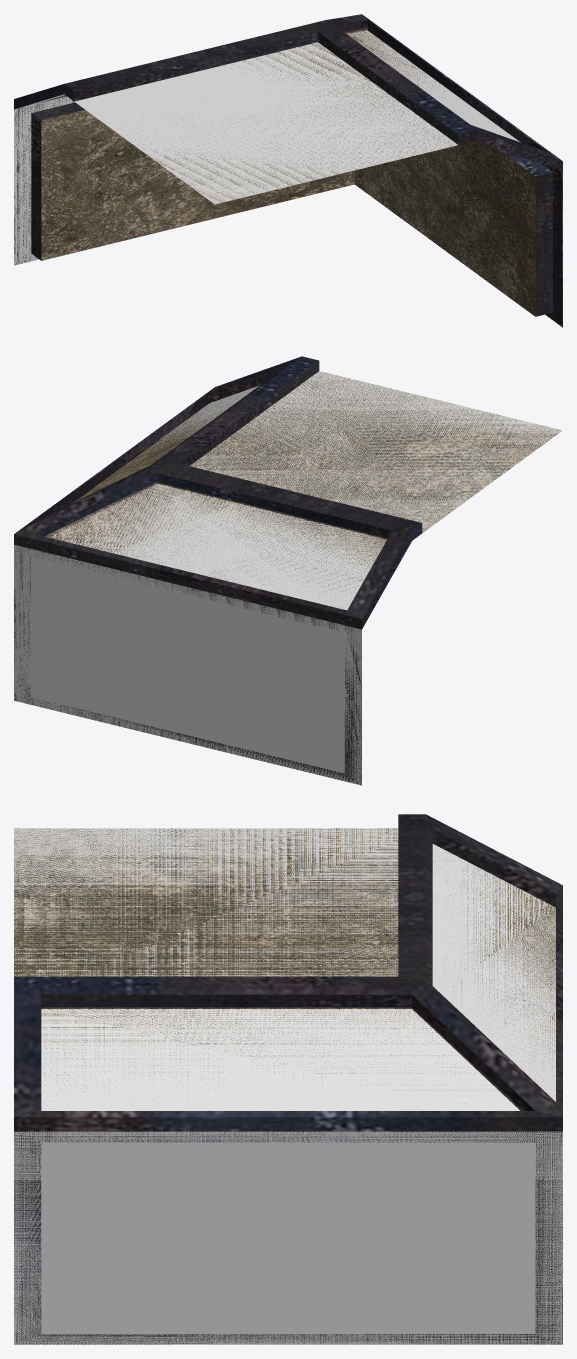
Rendered from угол.fbx.
3 renders of one model, top to bottom at view 1: azimuth 30°, elevation 25°; view 2: azimuth 150°, elevation 25°; view 3: azimuth 270°, elevation 25°, orthographic. The views are drawn at different scales.
Parts seen in each view (by area): view 1: угол, Куб; view 2: Куб, угол; view 3: Куб, угол.
Part boxes in pixels (x1,y1,x2,y2): угол: (14, 14, 562, 327); Куб: (14, 30, 562, 324); Куб: (14, 371, 562, 785); угол: (14, 356, 560, 784); Куб: (14, 828, 562, 1344); угол: (14, 814, 562, 1344).
Size of the model in its own units: 700 by 420 by 700.
Materials: 1 (1 with a texture image).
